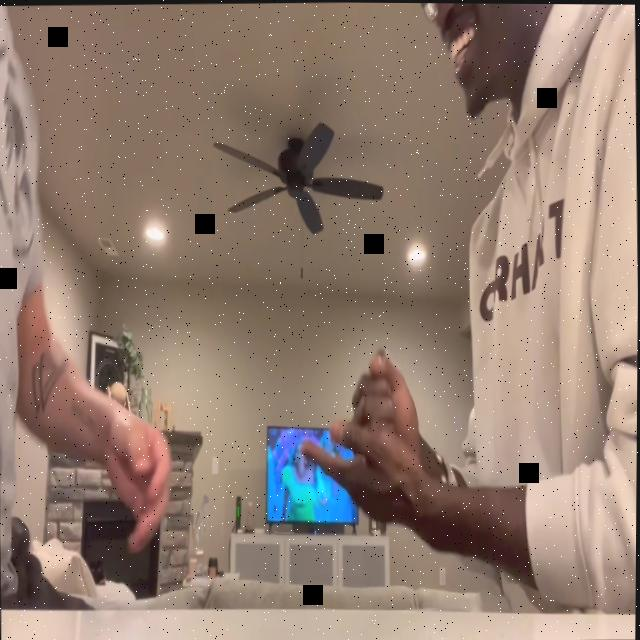Rock: (350, 343, 424, 464)
